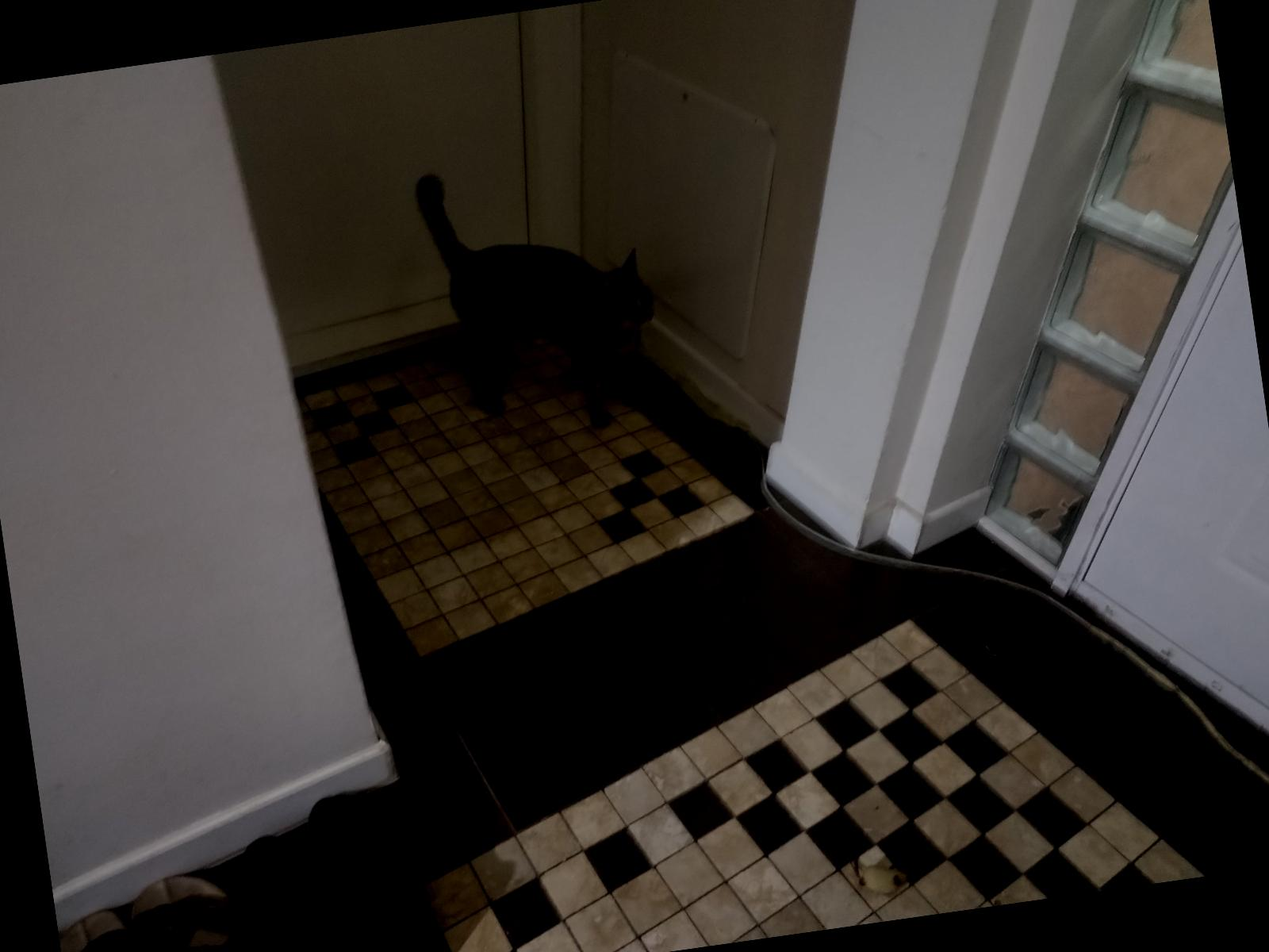macka: (403, 138, 679, 455)
